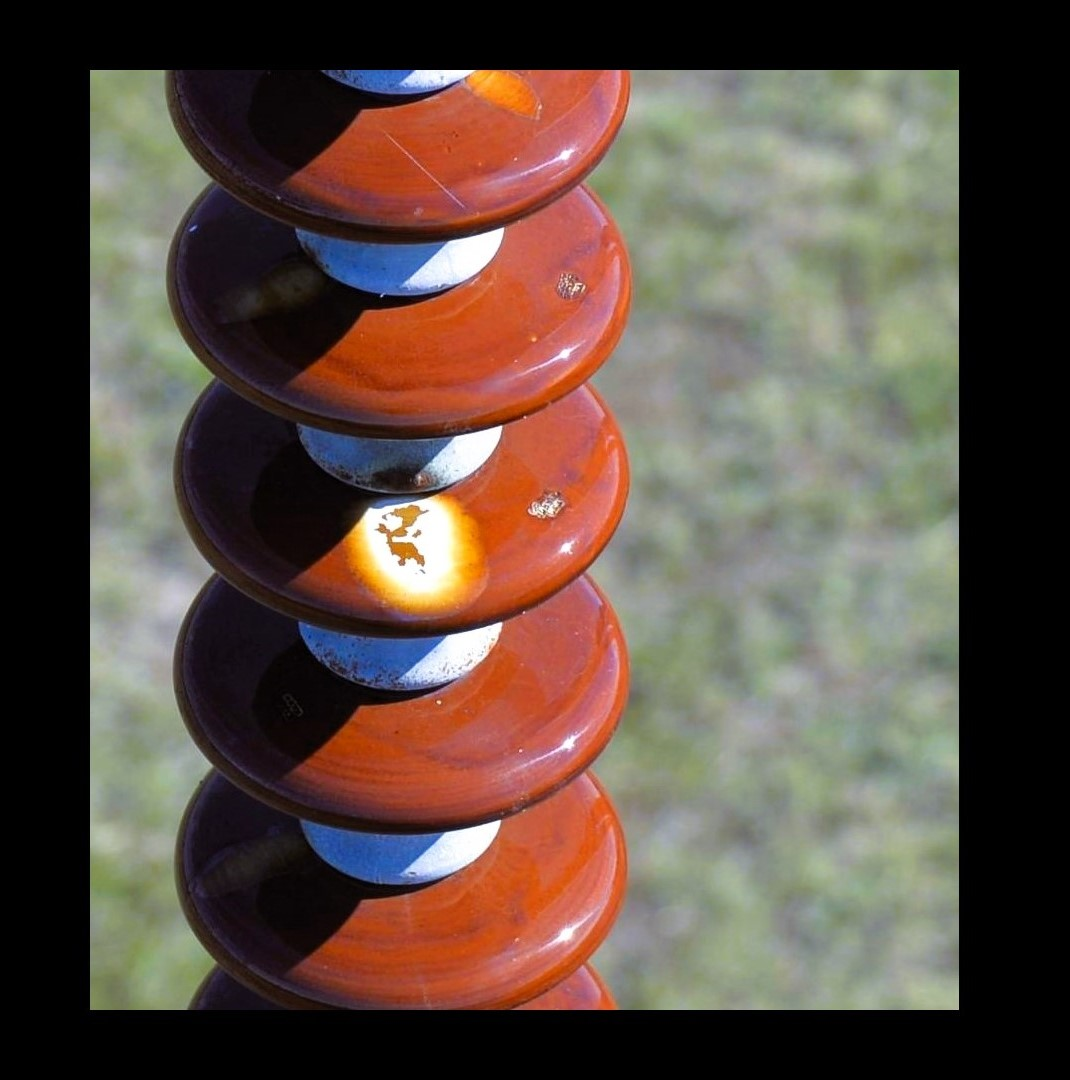Insulator flashover: (167, 383, 637, 640)
